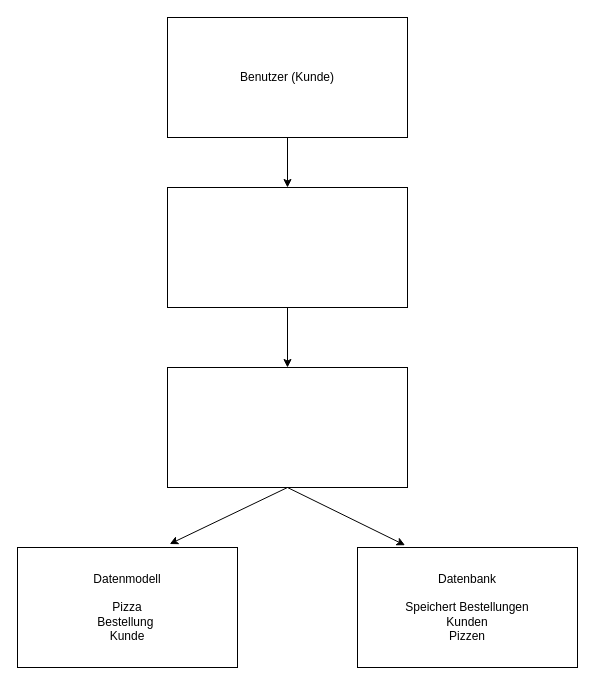
Some shapes in this 595 by 685 pixel diagram are drawn without their labels. Here are the shapes that lost their labels. From the top down, the centre of each, then its label:
(x=287, y=247): Benutzeroberfläche (UI) Bestellung eingeben / anzeigen
(x=287, y=427): Anwendungslogik Bestellung verarbeiten Preis berechnen Bestellung erstellen
